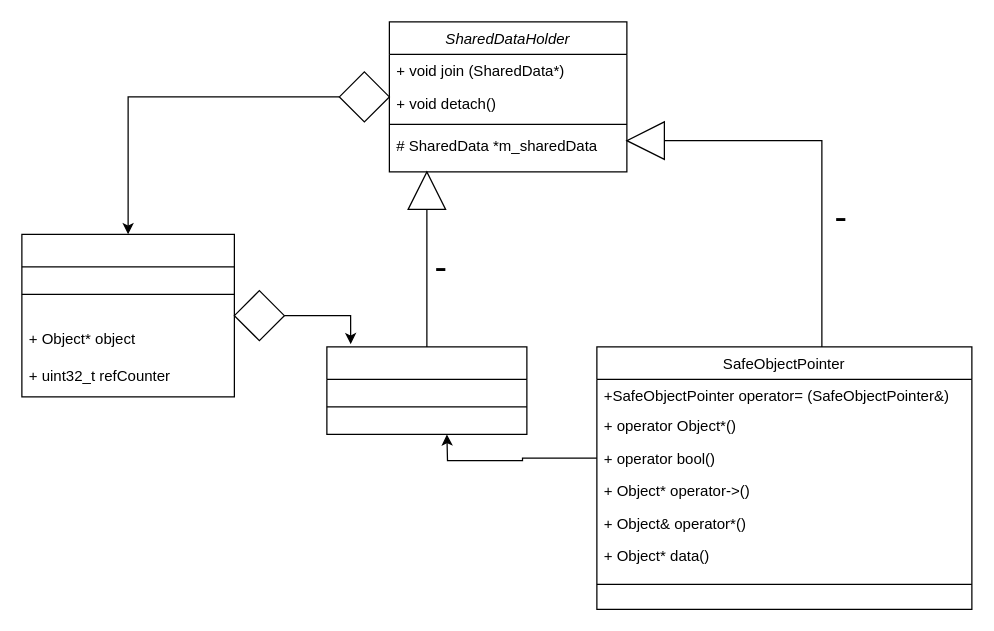
This 994x631 diagram has some shape labels left out. Each missing label, with the box of its shape:
Object: (326, 346, 527, 434)
SharedData: (21, 233, 234, 397)
